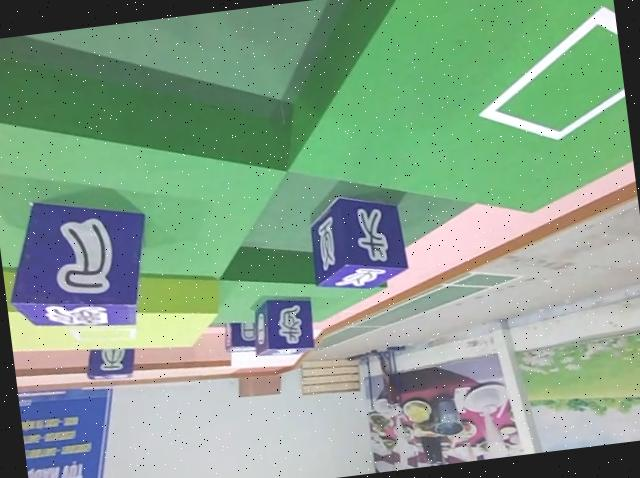R2 Fake Blue: (0, 187, 158, 337), (300, 187, 410, 295), (249, 294, 317, 359), (81, 341, 138, 383), (220, 319, 258, 356)
